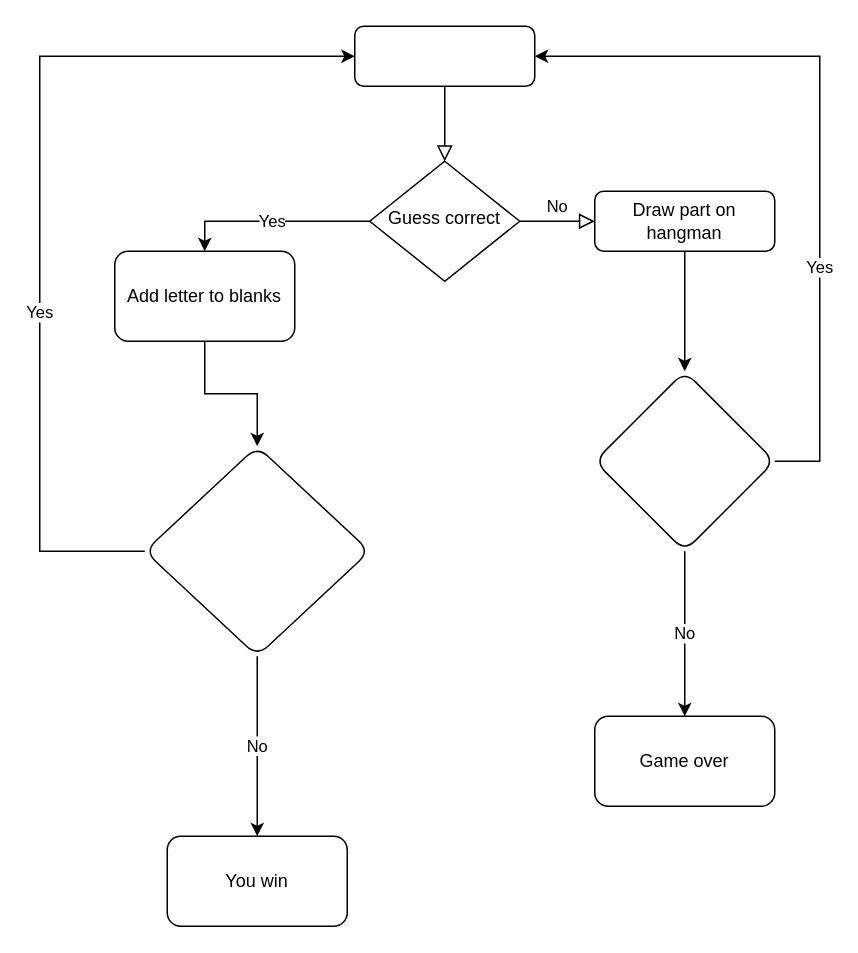
The diagram is 858 pixels wide and 953 high, and some of its shapes have lost their labels. The shapes that lost their labels are listed below. From the top down, each one's box as (x1, y1, x2, y2) in pixels, then its label:
(353, 25, 535, 86): Start
(593, 370, 775, 551): Still have life?
(143, 445, 370, 656): Still more letter?
